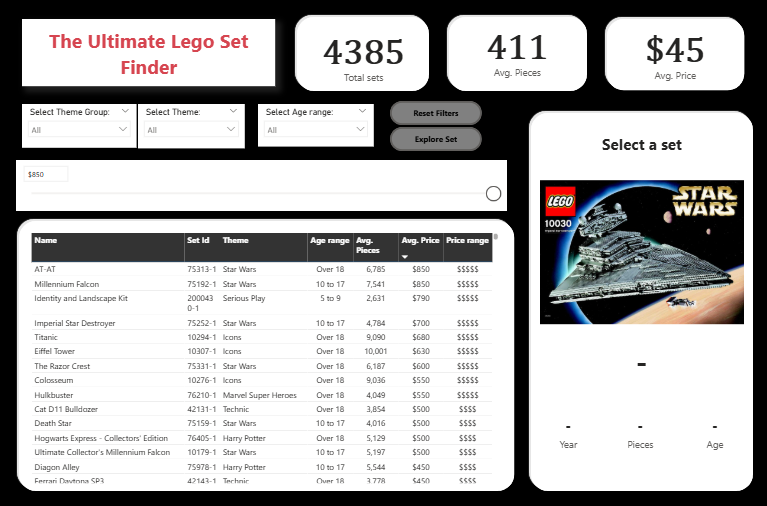

This screenshot's page, from the dashboard's own definition file:
{"tool":"powerbi","page":{"name":"Lego set finder","canvas":[1280,850],"ordinal":0},"visuals":[{"type":"shape","box":[492.2,27.8,230,133.3],"z":0},{"type":"shape","box":[881.1,187.8,380,640],"z":1000},{"type":"shape","box":[744.4,27.8,240,133.3],"z":2000},{"type":"shape","box":[28.9,367.8,835.6,460],"z":3000},{"type":"shape","box":[1007.8,32.2,238.9,128.9],"z":4000},{"type":"card","fields":{"Values":["Measure table.Total sets"]},"box":[504.4,43.3,205.6,105.6],"z":5000},{"type":"card","fields":{"Values":["Measure table.Avg. Piece"]},"box":[768.9,32.2,191.1,111.1],"z":6000},{"type":"card","fields":{"Values":["Measure table.Avg. Price"]},"box":[1033.3,36.7,187.8,112.2],"z":7000},{"type":"slicer","fields":{"Values":["lego_sets.themeGroup"]},"box":[37.8,178.9,191.1,73.3],"z":8000},{"type":"slicer","fields":{"Values":["lego_sets.Age range"]},"box":[432.2,177.8,193.3,71.1],"z":9000},{"type":"slicer","fields":{"Values":["lego_sets.theme"]},"box":[231.1,177.8,177.8,74.4],"z":10000},{"type":"slicer","fields":{"Values":["Price range.Price range"]},"box":[28.9,272.2,816.7,84.4],"z":11000},{"type":"tableEx","fields":{"Values":["lego_sets.name","lego_sets.set_id","lego_sets.theme","lego_sets.Age range","Measure table.Avg. Piece","Measure table.Avg. Price","lego_sets.Price range"]},"box":[48.9,387.8,788.9,426.7],"z":12000},{"type":"card","fields":{"Values":["Measure table.selected set"]},"box":[896.2,206.2,350,80],"z":13000},{"type":"image","box":[896.2,297.5,350,253.8],"z":14000},{"type":"card","fields":{"Values":["Measure table.selected price"]},"box":[905,561.2,331.2,88.8],"z":15000},{"type":"card","fields":{"Values":["Measure table.selected year"]},"box":[895,680,107.5,88.8],"z":16000},{"type":"card","fields":{"Values":["Measure table.selected pieces"]},"box":[1005,680,127.5,88.8],"z":17000},{"type":"card","fields":{"Values":["Measure table.selected age"]},"box":[1135,680,116.2,88.8],"z":18000},{"type":"actionButton","box":[652,173,153,40],"z":19000},{"type":"textbox","box":[37.8,36.7,422.2,112.2],"z":20000},{"type":"actionButton","box":[652,216,153,40],"z":21000}]}

Visuals, with their boxes in screenshot pixels (x1, y1, x2, y2), scaled from the page's 1280x850 canvas onto the 767x506 screenshot:
shape: [left=295, top=17, right=433, bottom=96]
shape: [left=528, top=112, right=756, bottom=493]
shape: [left=446, top=17, right=590, bottom=96]
shape: [left=17, top=219, right=518, bottom=493]
shape: [left=604, top=19, right=747, bottom=96]
card - Measure table.Total sets: [left=302, top=26, right=425, bottom=89]
card - Measure table.Avg. Piece: [left=461, top=19, right=575, bottom=85]
card - Measure table.Avg. Price: [left=619, top=22, right=732, bottom=89]
slicer - lego_sets.themeGroup: [left=23, top=106, right=137, bottom=150]
slicer - lego_sets.Age range: [left=259, top=106, right=375, bottom=148]
slicer - lego_sets.theme: [left=138, top=106, right=245, bottom=150]
slicer - Price range.Price range: [left=17, top=162, right=507, bottom=212]
tableEx - lego_sets.name x lego_sets.set_id: [left=29, top=231, right=502, bottom=485]
card - Measure table.selected set: [left=537, top=123, right=747, bottom=170]
image: [left=537, top=177, right=747, bottom=328]
card - Measure table.selected price: [left=542, top=334, right=741, bottom=387]
card - Measure table.selected year: [left=536, top=405, right=601, bottom=458]
card - Measure table.selected pieces: [left=602, top=405, right=679, bottom=458]
card - Measure table.selected age: [left=680, top=405, right=750, bottom=458]
actionButton: [left=391, top=103, right=482, bottom=127]
textbox: [left=23, top=22, right=276, bottom=89]
actionButton: [left=391, top=129, right=482, bottom=152]
